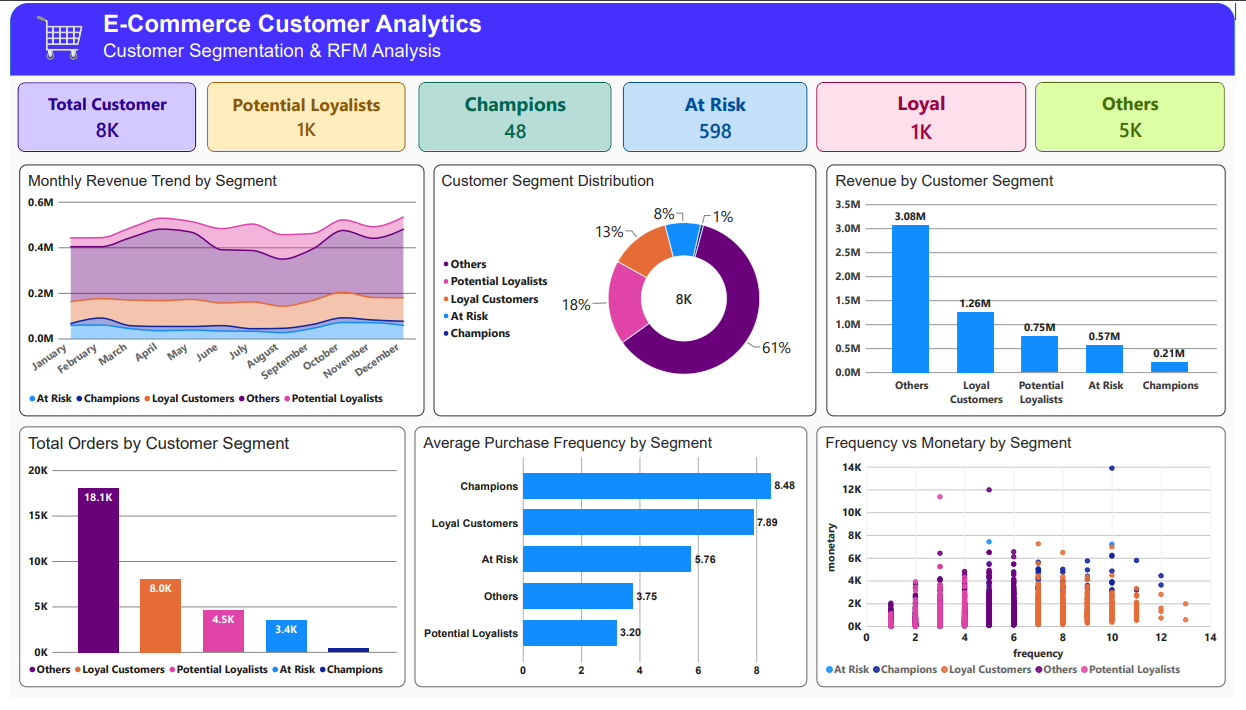

This screenshot's page, from the dashboard's own definition file:
{"tool":"powerbi","page":{"name":"RFM analysis","canvas":[2450,1390],"ordinal":1},"visuals":[{"type":"cardVisual","fields":{"Data":["ecommerce_data.Total Customer"]},"box":[14.9,158.8,357.4,139],"z":0},{"type":"shape","box":[0,0,2450,145],"z":1000},{"type":"textbox","title":"E-Commerce Customer Analytics","box":[186.1,15.3,814.6,54.7],"z":2000},{"type":"textbox","title":"Customer Segmentation & RFM Analysis","box":[185.7,73.8,689.8,52.6],"z":3000},{"type":"image","box":[15.3,15.3,170.8,107.3],"z":4000},{"type":"cardVisual","fields":{"Data":["customer_segments.Champions"]},"box":[816.7,157.7,386.7,139.9],"z":5000},{"type":"cardVisual","fields":{"Data":["customer_segments.At Risk"]},"box":[1226.3,157.7,368.9,139.9],"z":6000},{"type":"cardVisual","fields":{"Data":["customer_segments.Loyal"]},"box":[1613,157.7,419.8,139.9],"z":7000},{"type":"donutChart","title":"Customer Segment Distribution","fields":{"Category":["customer_segments.customer_segment"],"Y":["ecommerce_data.Total Customer"]},"box":[847.2,323.1,765.8,503.7],"z":8000},{"type":"clusteredColumnChart","title":"Revenue by Customer Segment","fields":{"Category":["customer_segments.customer_segment"],"Y":["ecommerce_data.Total Revenue"]},"box":[1633.3,323.1,798.9,503.7],"z":9000},{"type":"clusteredBarChart","title":"Average Purchase Frequency by Segment","fields":{"Category":["customer_segments.customer_segment"],"Y":["Avg(rfm_scores.frequency)"]},"box":[809,847.2,786.1,521.5],"z":10000},{"type":"scatterChart","title":"Frequency vs Monetary by Segment","fields":{"Series":["customer_segments.customer_segment"],"X":["rfm_scores.frequency"],"Y":["rfm_scores.monetary"]},"box":[1613,847.2,819.2,521.5],"z":10001},{"type":"cardVisual","fields":{"Data":["customer_segments.Potential Loyalists"]},"box":[394.3,157.7,396.9,139.9],"z":10002},{"type":"columnChart","title":"Total Orders by Customer Segment","fields":{"Category":["customer_segments.customer_segment"],"Series":["customer_segments.customer_segment"],"Y":["ecommerce_data.Total orders"]},"box":[17.8,847.2,773.4,521.5],"z":10003},{"type":"cardVisual","fields":{"Data":["customer_segments.Others"]},"box":[2050.6,157.7,379.1,139.9],"z":10004},{"type":"stackedAreaChart","title":"Monthly Revenue Trend by Segment","fields":{"Category":["ecommerce_data.order_date.Variation.Date Hierarchy.Month"],"Series":["customer_segments.customer_segment"],"Y":["ecommerce_data.Total Revenue"]},"box":[17.8,323.1,811.6,503.7],"z":10005}]}

Visuals, with their boxes in screenshot pixels (x1, y1, x2, y2), scaled from the page's 2450x1390 canvas onto the 1246x710 screenshot:
cardVisual - ecommerce_data.Total Customer: {"left": 8, "top": 81, "right": 189, "bottom": 152}
shape: {"left": 0, "top": 0, "right": 1245, "bottom": 74}
"E-Commerce Customer Analytics" textbox: {"left": 95, "top": 8, "right": 509, "bottom": 36}
"Customer Segmentation & RFM Analysis" textbox: {"left": 94, "top": 38, "right": 445, "bottom": 65}
image: {"left": 8, "top": 8, "right": 95, "bottom": 63}
cardVisual - customer_segments.Champions: {"left": 415, "top": 81, "right": 612, "bottom": 152}
cardVisual - customer_segments.At Risk: {"left": 624, "top": 81, "right": 811, "bottom": 152}
cardVisual - customer_segments.Loyal: {"left": 820, "top": 81, "right": 1034, "bottom": 152}
"Customer Segment Distribution" donutChart: {"left": 431, "top": 165, "right": 820, "bottom": 422}
"Revenue by Customer Segment" clusteredColumnChart: {"left": 831, "top": 165, "right": 1237, "bottom": 422}
"Average Purchase Frequency by Segment" clusteredBarChart: {"left": 411, "top": 433, "right": 811, "bottom": 699}
"Frequency vs Monetary by Segment" scatterChart: {"left": 820, "top": 433, "right": 1237, "bottom": 699}
cardVisual - customer_segments.Potential Loyalists: {"left": 201, "top": 81, "right": 402, "bottom": 152}
"Total Orders by Customer Segment" columnChart: {"left": 9, "top": 433, "right": 402, "bottom": 699}
cardVisual - customer_segments.Others: {"left": 1043, "top": 81, "right": 1236, "bottom": 152}
"Monthly Revenue Trend by Segment" stackedAreaChart: {"left": 9, "top": 165, "right": 422, "bottom": 422}
